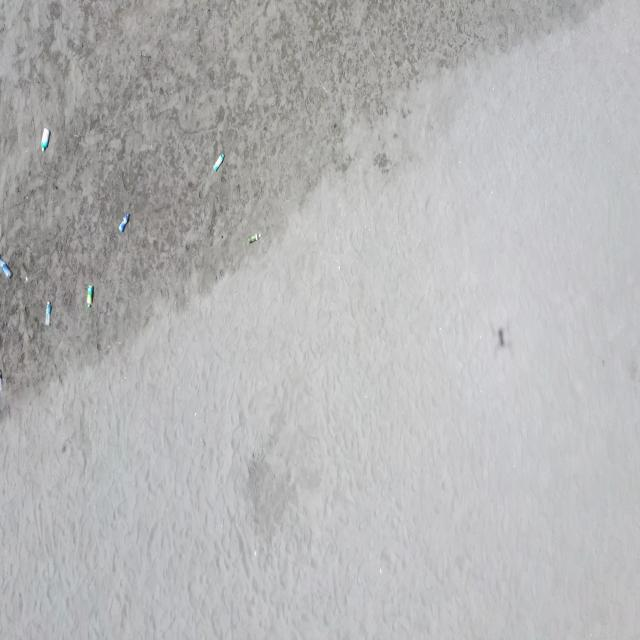plastic-bottle: (118, 210, 131, 232), (1, 257, 12, 282), (40, 129, 51, 153), (213, 153, 224, 175), (86, 284, 94, 310), (44, 300, 51, 328), (248, 232, 262, 244)
